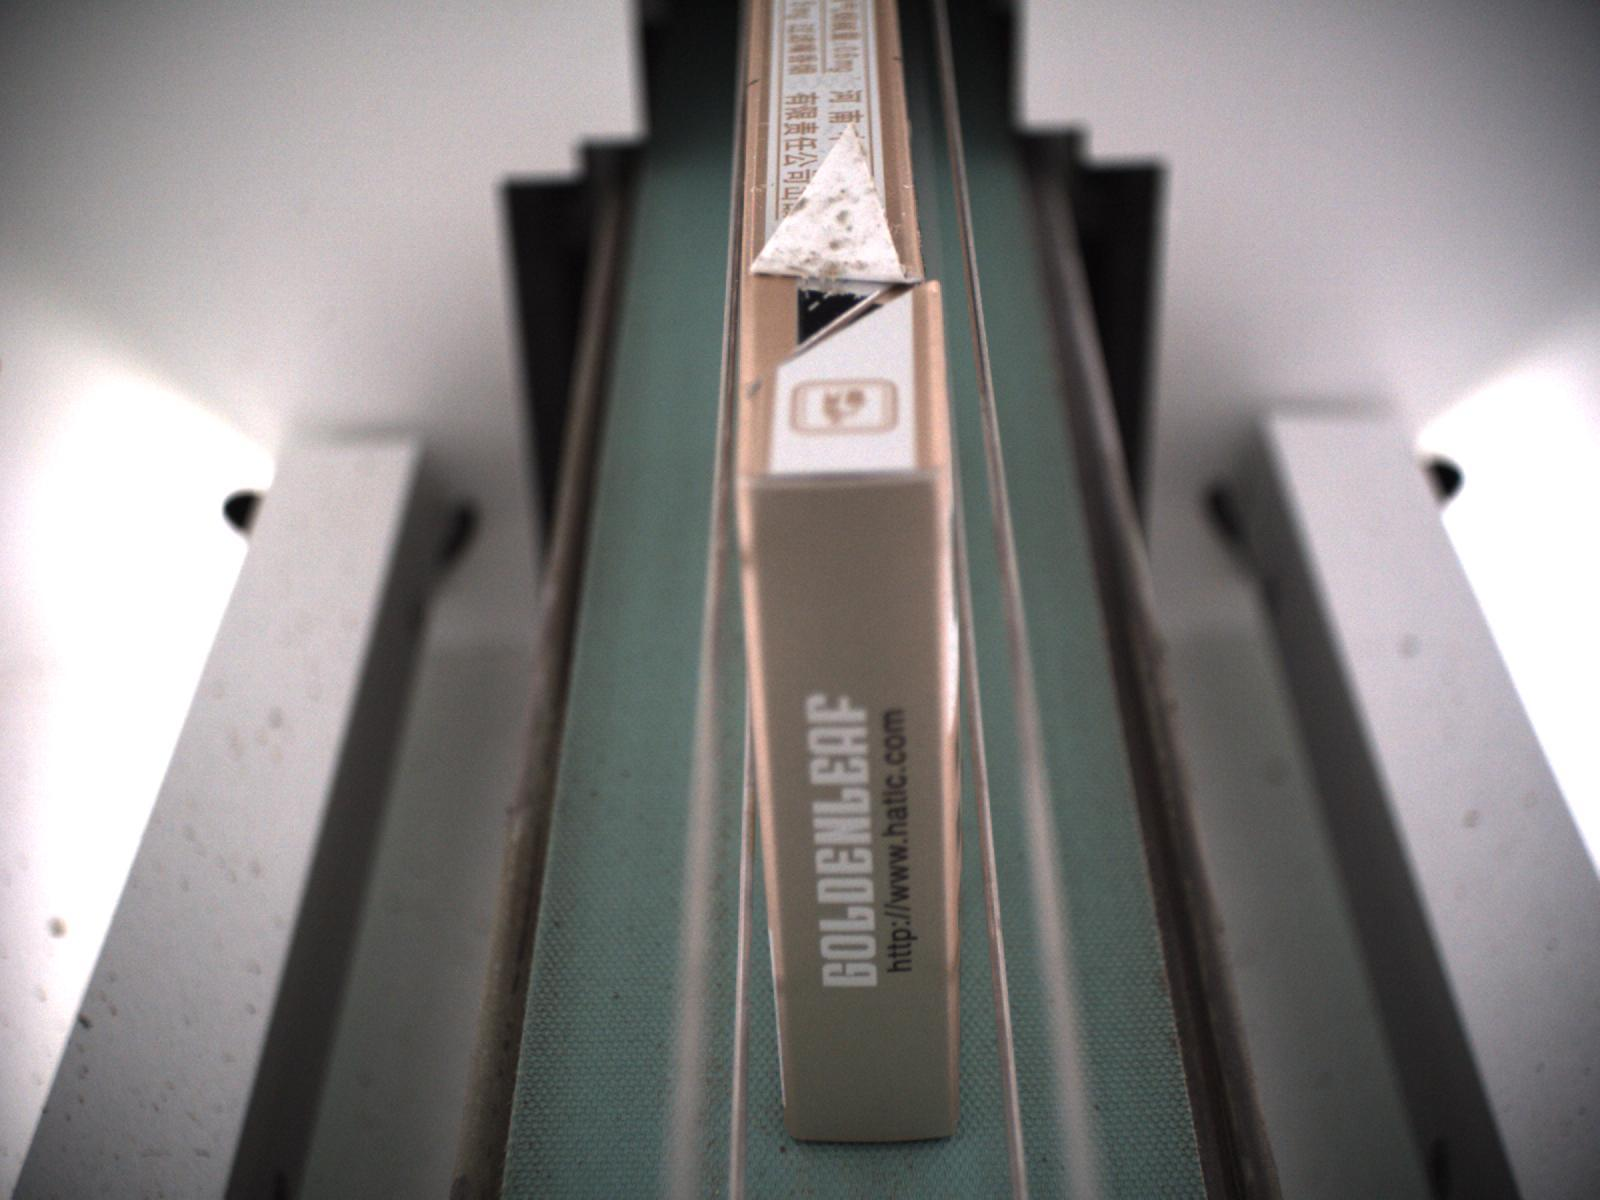outerFold_upper_2: (741, 115, 942, 395)
